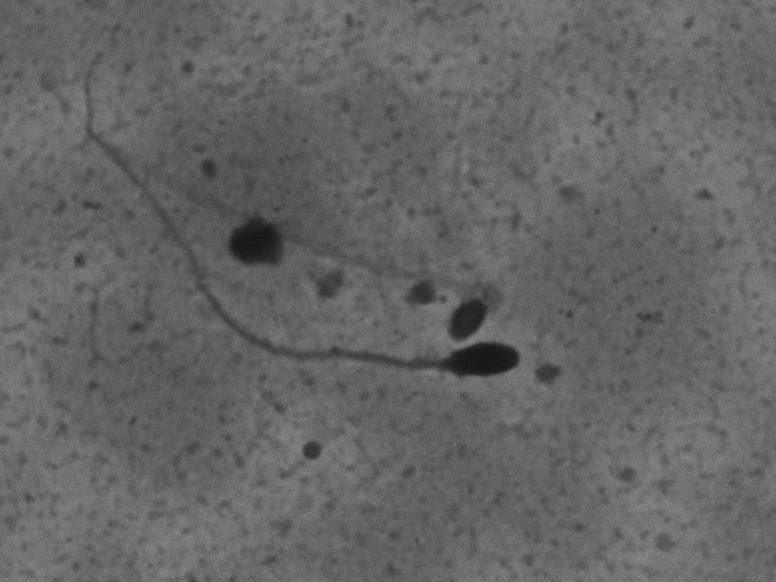Abnormal: (61, 38, 526, 388)
